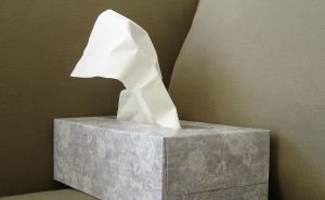Tissue: (70, 8, 186, 132)
